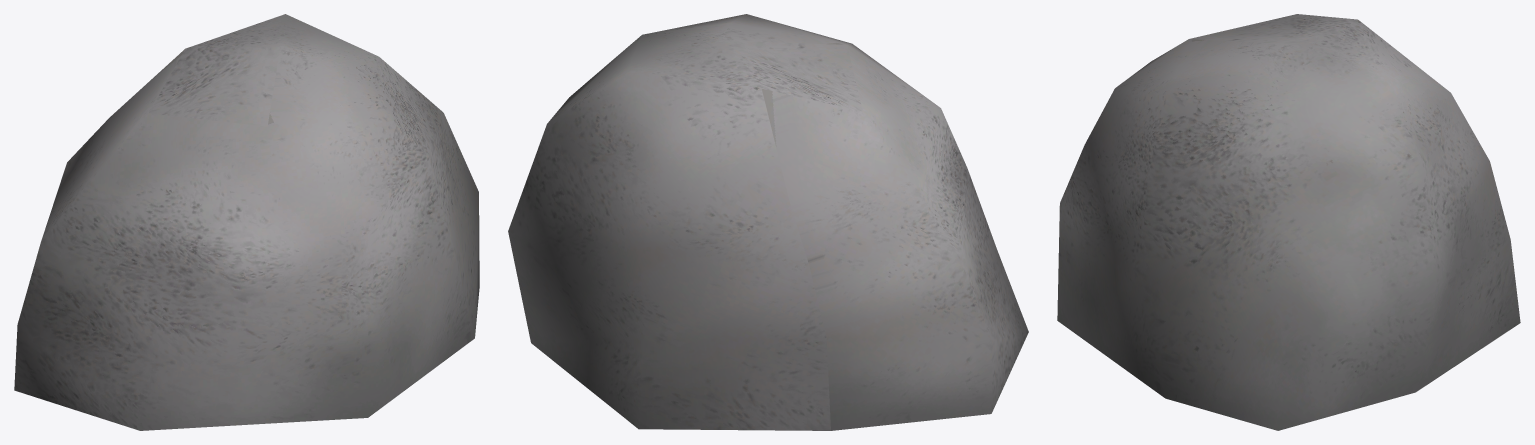
Rendered from stone1.fbx.
3 renders of one model, left to right at view 1: azimuth 30°, elevation 25°; view 2: azimuth 150°, elevation 25°; view 3: azimuth 270°, elevation 25°, orthographic. The views are drawn at different scales.
Parts seen in each view (by area): view 1: stone_1; view 2: stone_1; view 3: stone_1.
Part boxes in pixels (x1=…): stone_1: x1=14, y1=14, x2=479, y2=430; stone_1: x1=508, y1=14, x2=1028, y2=430; stone_1: x1=1057, y1=14, x2=1520, y2=430.
Bounding box in the file's own units: 1.66 × 1 × 1.43.
Materials: 2 (1 with a texture image).
